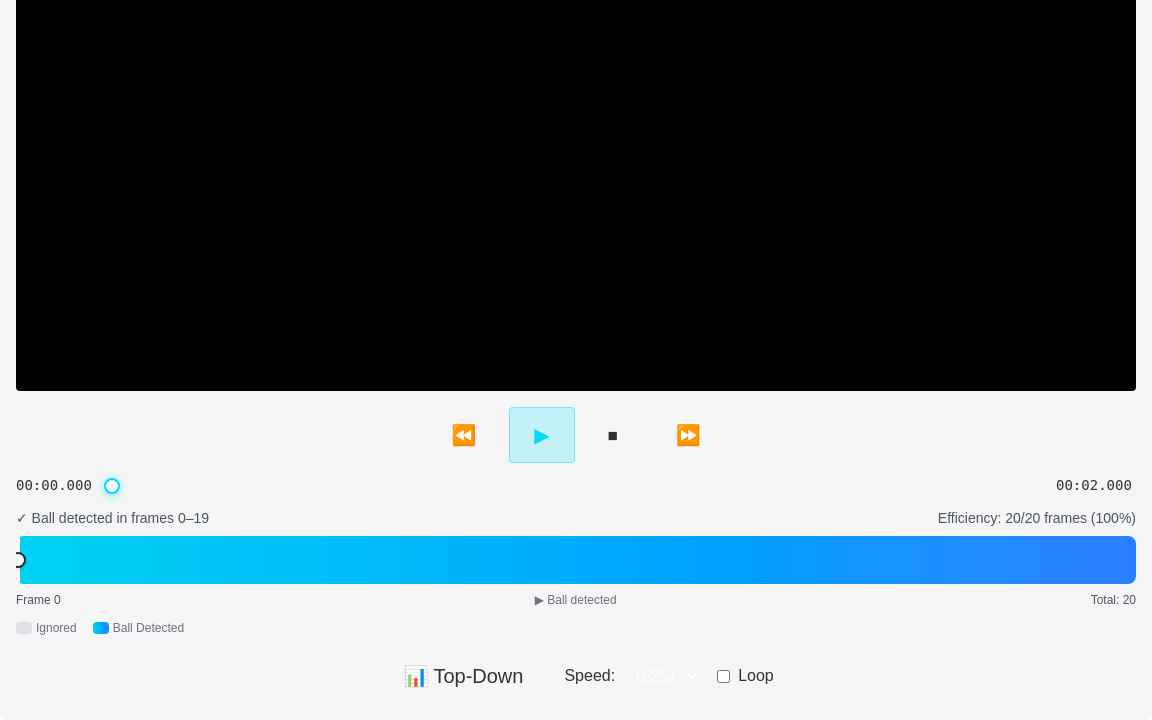
it: Trajectory Replay Integration › toggles view mode
(page scrolled)
Click the button titled "toggle view mode".
click(463, 676)  # box [378,648,548,704]
(page scrolled)
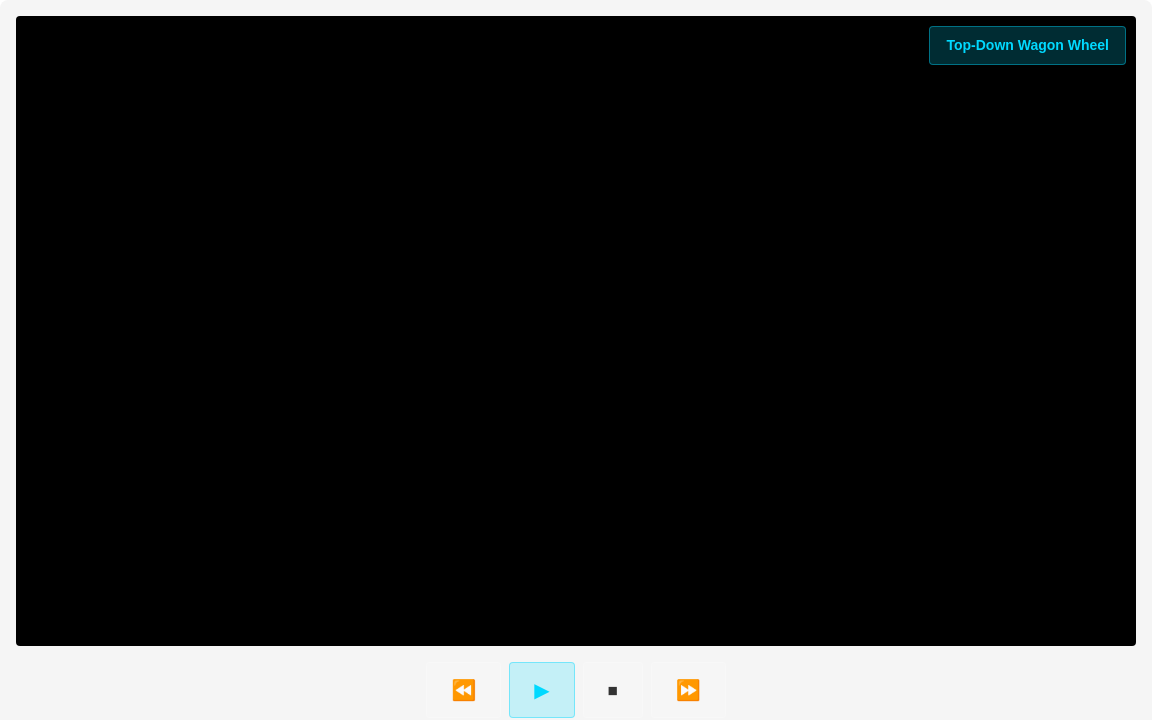
Check: the text "Top-Down Wagon Wheel" is shown, box [930,26,1126,65]
